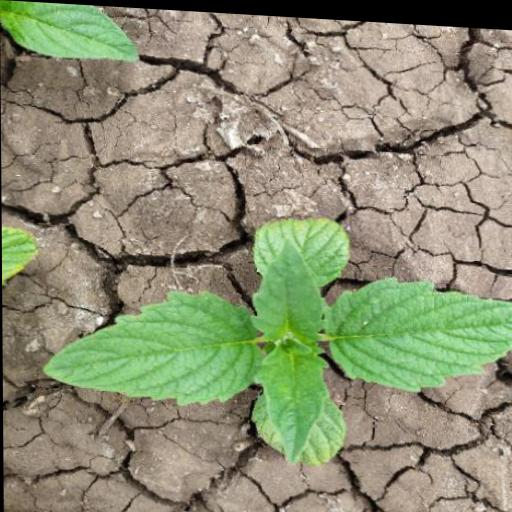crop: (33, 180, 512, 473)
